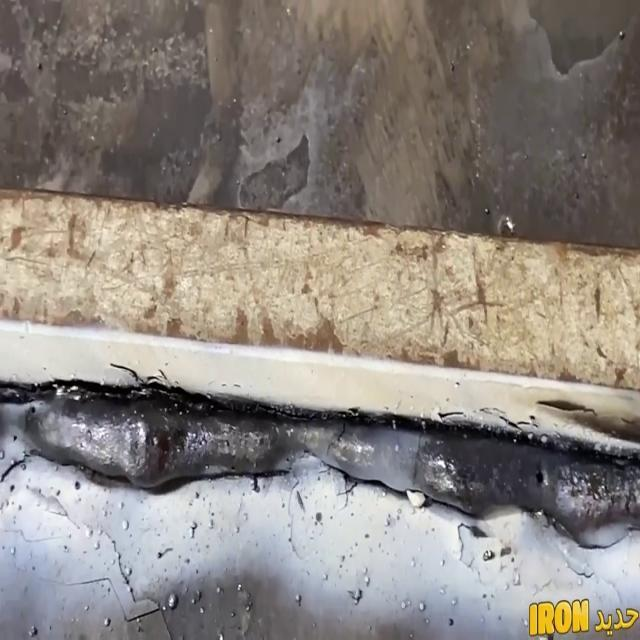Bad Welding: (0, 354, 639, 572)
Crack: (30, 448, 292, 502), (322, 455, 481, 520)
Porosity: (530, 464, 548, 489)
